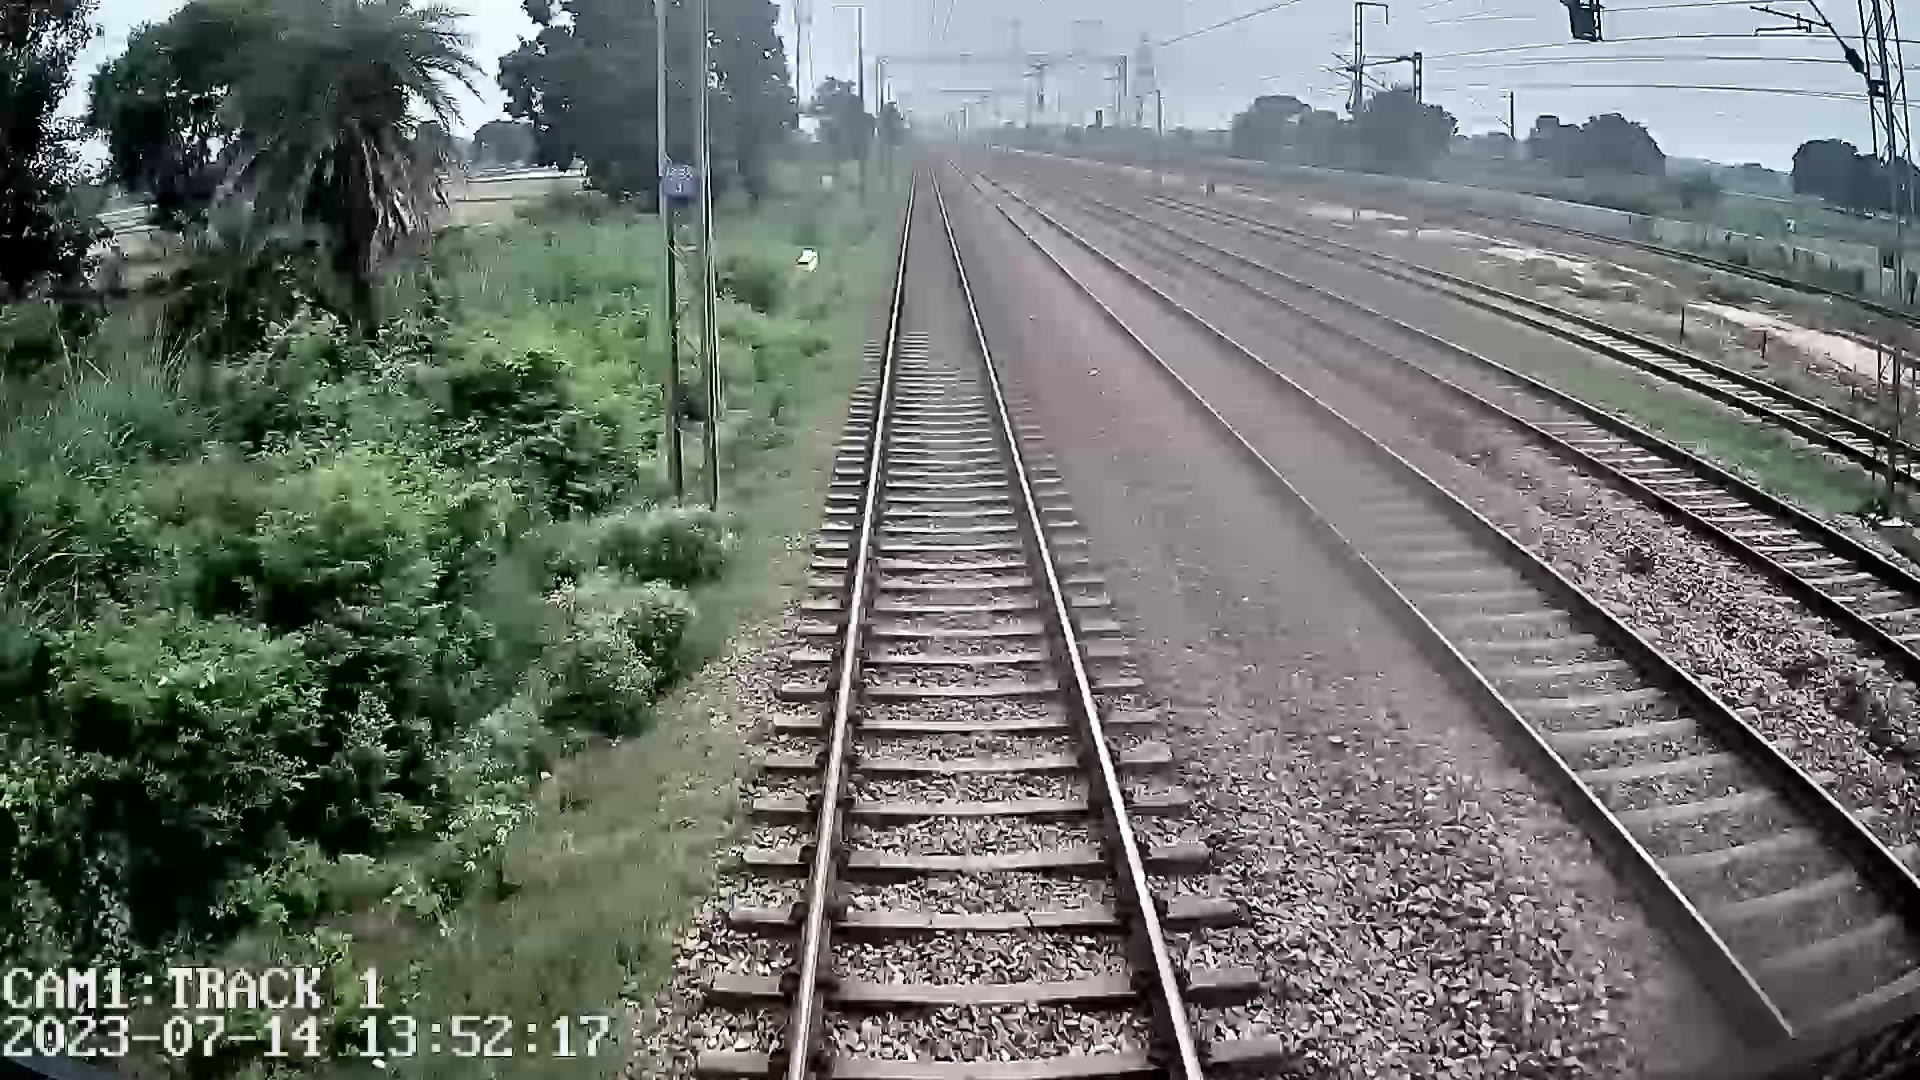track1: (798, 175, 1188, 1059)
track2: (996, 198, 1913, 978)
track3: (1159, 239, 1919, 637)
track4: (1328, 247, 1919, 476)
